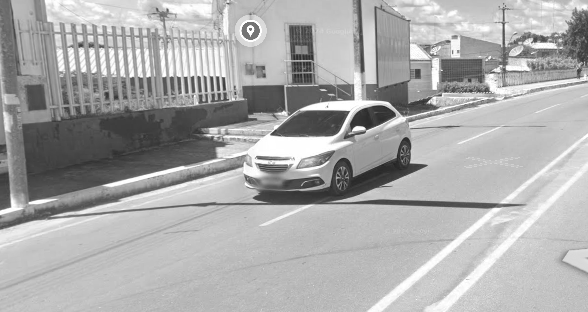car: (239, 93, 418, 202)
